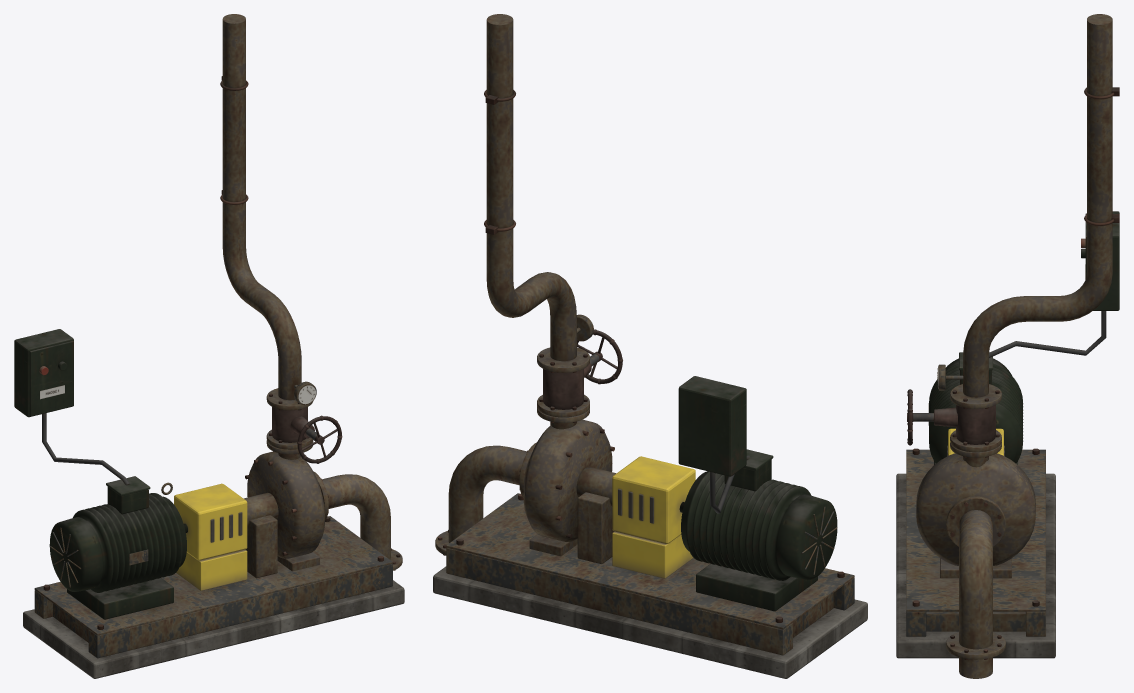
File: Pump_Unit.fbx
The picture shows the model from 3 angles, left to right: view 1: azimuth 30°, elevation 25°; view 2: azimuth 150°, elevation 25°; view 3: azimuth 270°, elevation 25°; orthographic projection. The views are drawn at different scales.
Parts seen in each view (by area): view 1: Pump_Unit_Mesh; view 2: Pump_Unit_Mesh; view 3: Pump_Unit_Mesh.
Part boxes in pixels (<box>): Pump_Unit_Mesh: <box>14,14,404,678</box>; Pump_Unit_Mesh: <box>433,14,867,678</box>; Pump_Unit_Mesh: <box>896,14,1119,678</box>.
Size of the model in its own units: 2.19 by 3.35 by 1.12.
